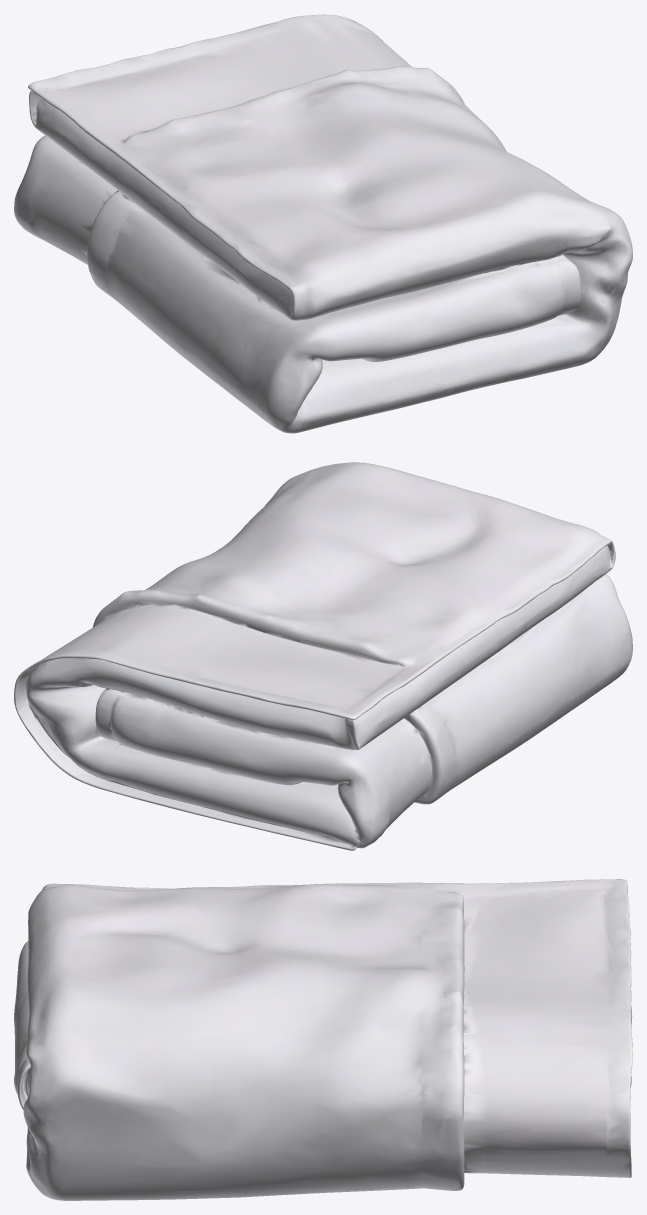
The picture shows the model from 3 angles, top to bottom: view 1: azimuth 30°, elevation 25°; view 2: azimuth 150°, elevation 25°; view 3: azimuth 270°, elevation 25°; orthographic projection. The views are drawn at different scales.
Parts seen in each view (by area): view 1: tripo_node_a6b57893-640a-4edf-92da-1bcaadcb77ad; view 2: tripo_node_a6b57893-640a-4edf-92da-1bcaadcb77ad; view 3: tripo_node_a6b57893-640a-4edf-92da-1bcaadcb77ad.
Part boxes in pixels (x1,y1,x2,y2): tripo_node_a6b57893-640a-4edf-92da-1bcaadcb77ad: (14,14,632,433); tripo_node_a6b57893-640a-4edf-92da-1bcaadcb77ad: (14,462,632,850); tripo_node_a6b57893-640a-4edf-92da-1bcaadcb77ad: (14,879,632,1200).
Size of the model in its own units: 0.774 by 0.33 by 1.
1 material, 1 textured.
